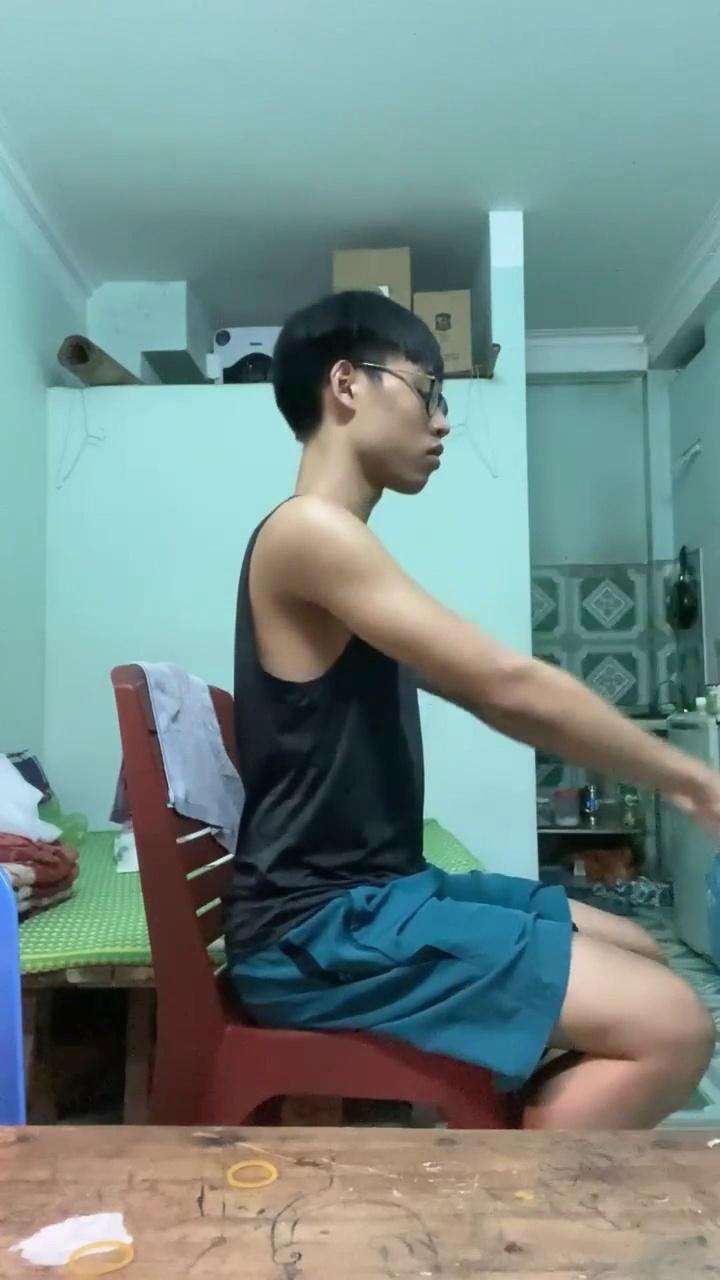GoodPosture: (224, 289, 719, 1128)
